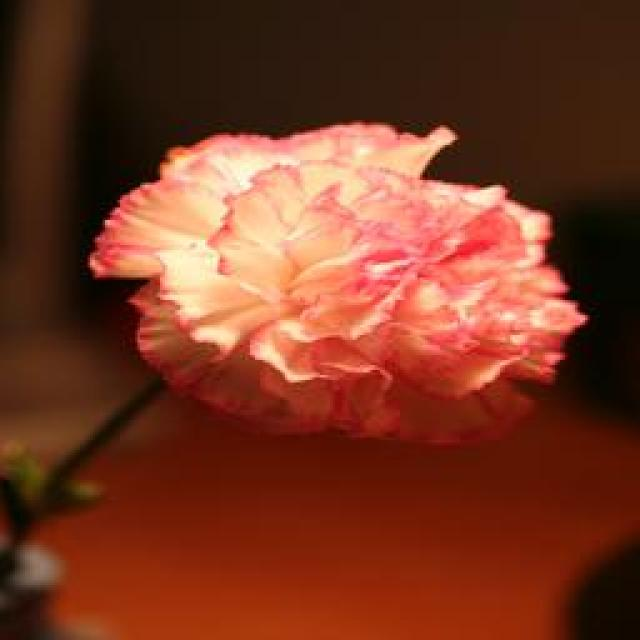carnation: (81, 112, 596, 454)
